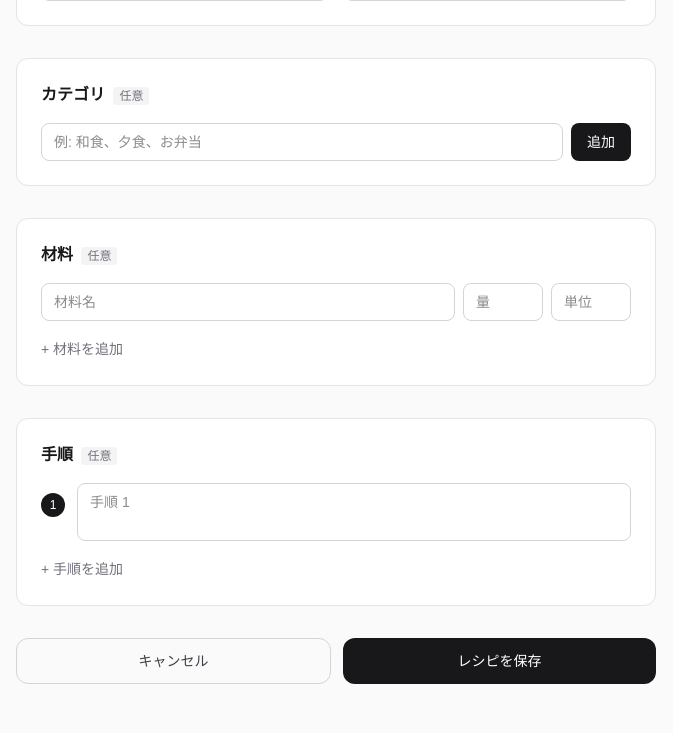
NewRecipePage › 材料が2行以上の時に × を押すと行が削除される
(page scrolled)
What coordinates should you click on to do the following:
click the button "+ 材料を追加"
I would click on:
 (82, 349)
Its box is [41,339,123,359].
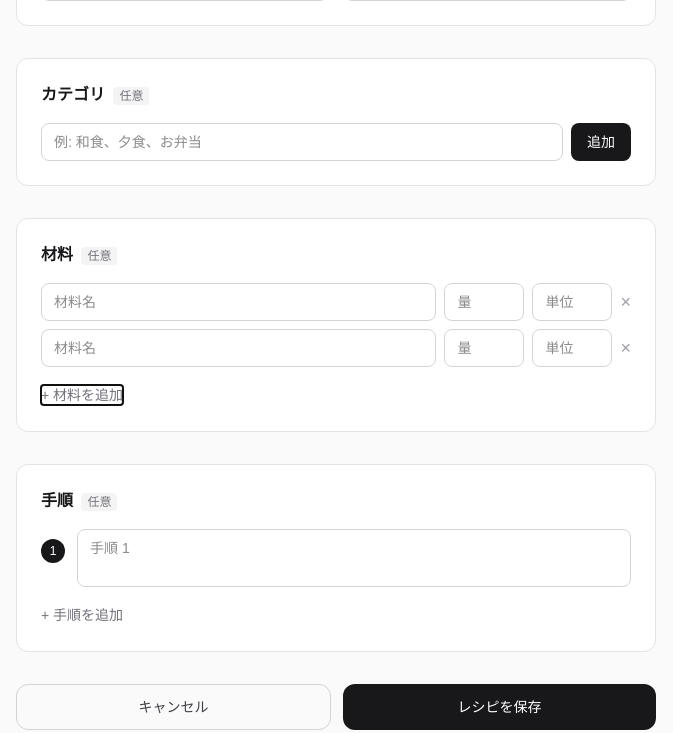
expect the number of fields with placeholder "材料名" is 2: met, box [41,283,436,321]; [41,329,436,367]
What coordinates should you click on to do the following:
click the 1st button "×"
I would click on:
 (626, 302)
Its box is [620,293,631,311].
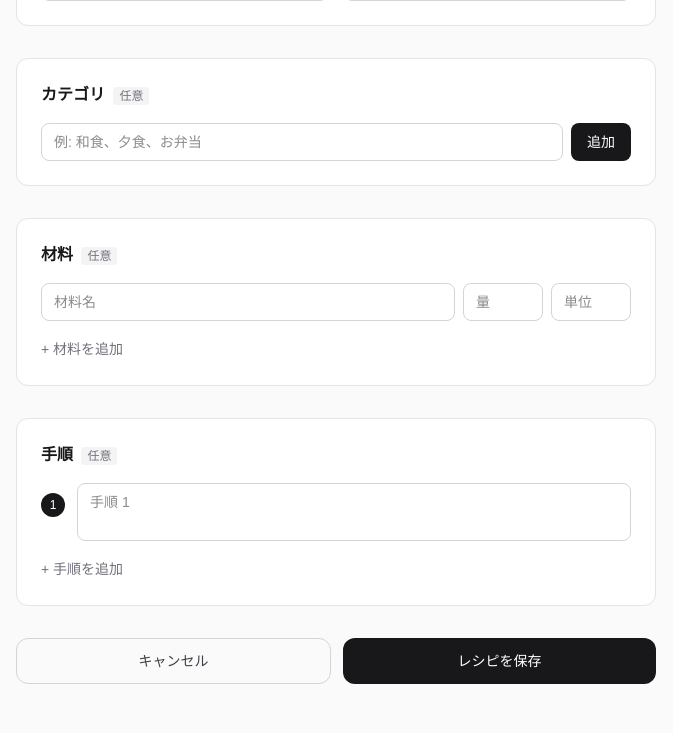
expect the number of fields with placeholder "材料名" is 1: met, box [41,283,455,321]
